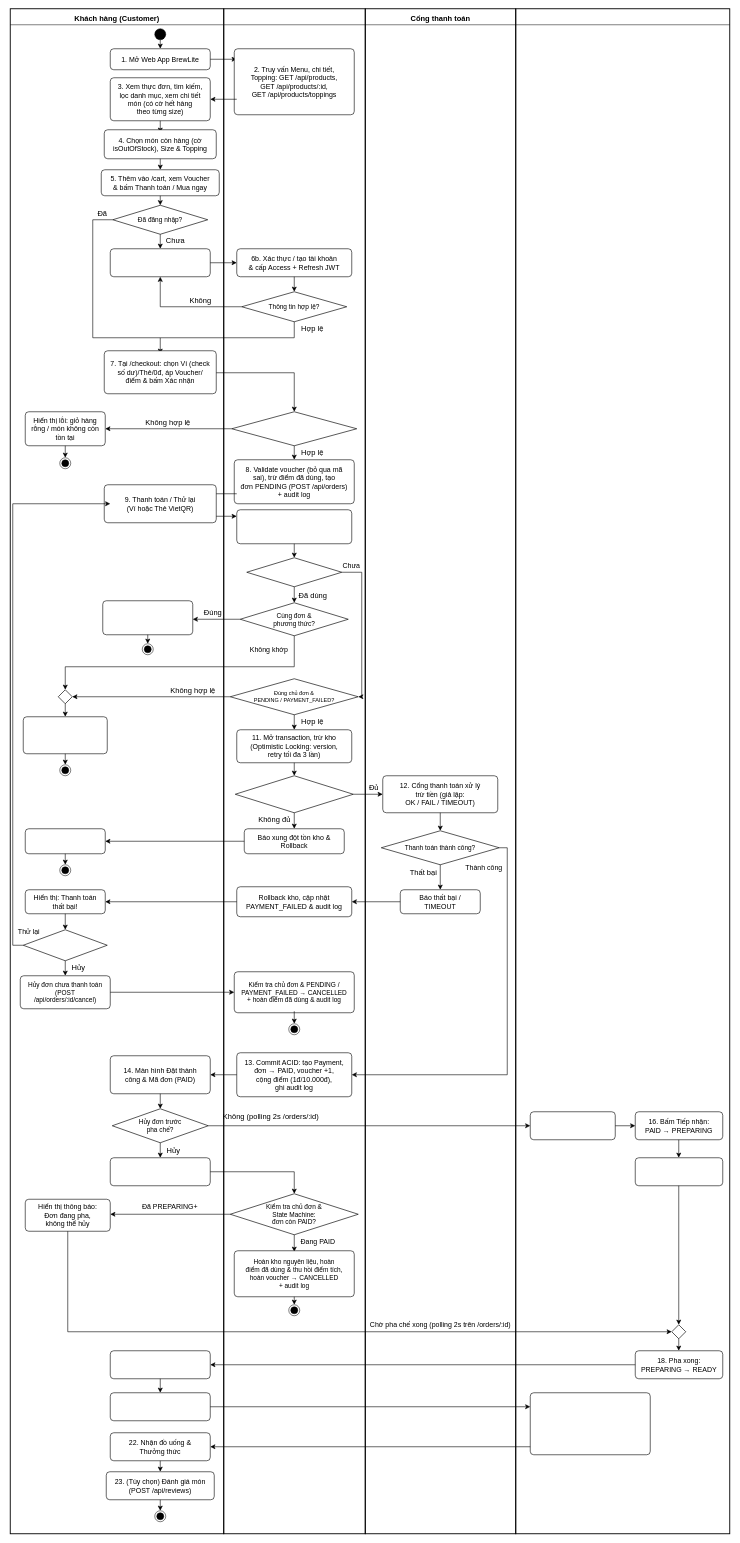
Image size: 740x1543. Some labels were removed from this diagram. The shapes that lost their labels are listed below. From the top down, each one's box as (x1, y1, x2, y2) in pixels, then its label:
(110, 248, 210, 277): 6a. Đăng nhập (username, mật khẩu) hoặc Đăng ký
(231, 411, 357, 446): Giỏ hàng & món hợp lệ? (POST /api/orders)
(236, 509, 352, 544): 10. POST /api/payments: nhận yêu cầu & kiểm tra Idempotency-Key
(246, 557, 342, 587): Key đã được dùng?
(102, 600, 193, 635): Hiển thị lại kết quả đã thanh toán (tránh trừ tiền 2 lần)
(23, 716, 107, 754): Hiển thị thông báo lỗi (trùng khóa giao dịch / đơn không hợp lệ)
(223, 8, 365, 1534): Hệ thống Backend
(515, 8, 730, 1534): Nhân viên quầy (Barista)
(235, 775, 353, 813): Đủ nguyên liệu & không xung đột?
(25, 828, 105, 854): Hiển thị: Hết nguyên liệu / xung đột!
(23, 929, 107, 961): Thử lại hay hủy?
(530, 1111, 615, 1140): 15. Nhận đơn PAID (Kanban FIFO)
(110, 1157, 210, 1186): Hủy đơn (POST /api/orders/:id/cancel)
(635, 1157, 723, 1186): 17. Xem Recipes & Pha chế
(110, 1350, 210, 1379): 19. Thông báo: "Đồ uống sẵn sàng!"
(110, 1392, 210, 1421): 20. Đến quầy xuất trình mã
(530, 1392, 650, 1455): 21. Đối chiếu mã, giao nước & bấm Hoàn tất: READY → COMPLETED
